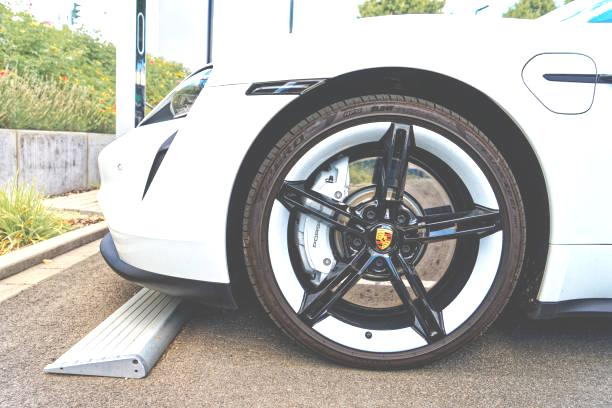porsche: (371, 220, 402, 255)
